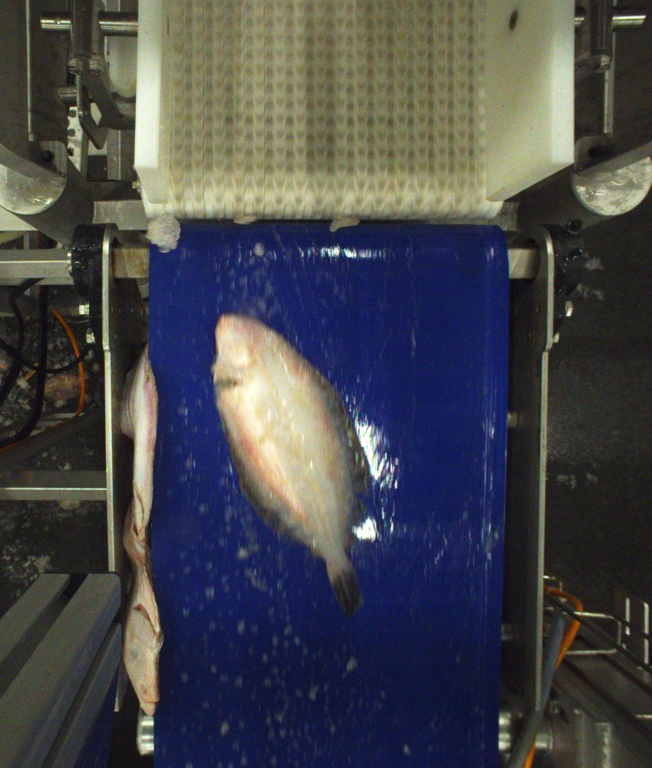WIT: (212, 311, 371, 606)
